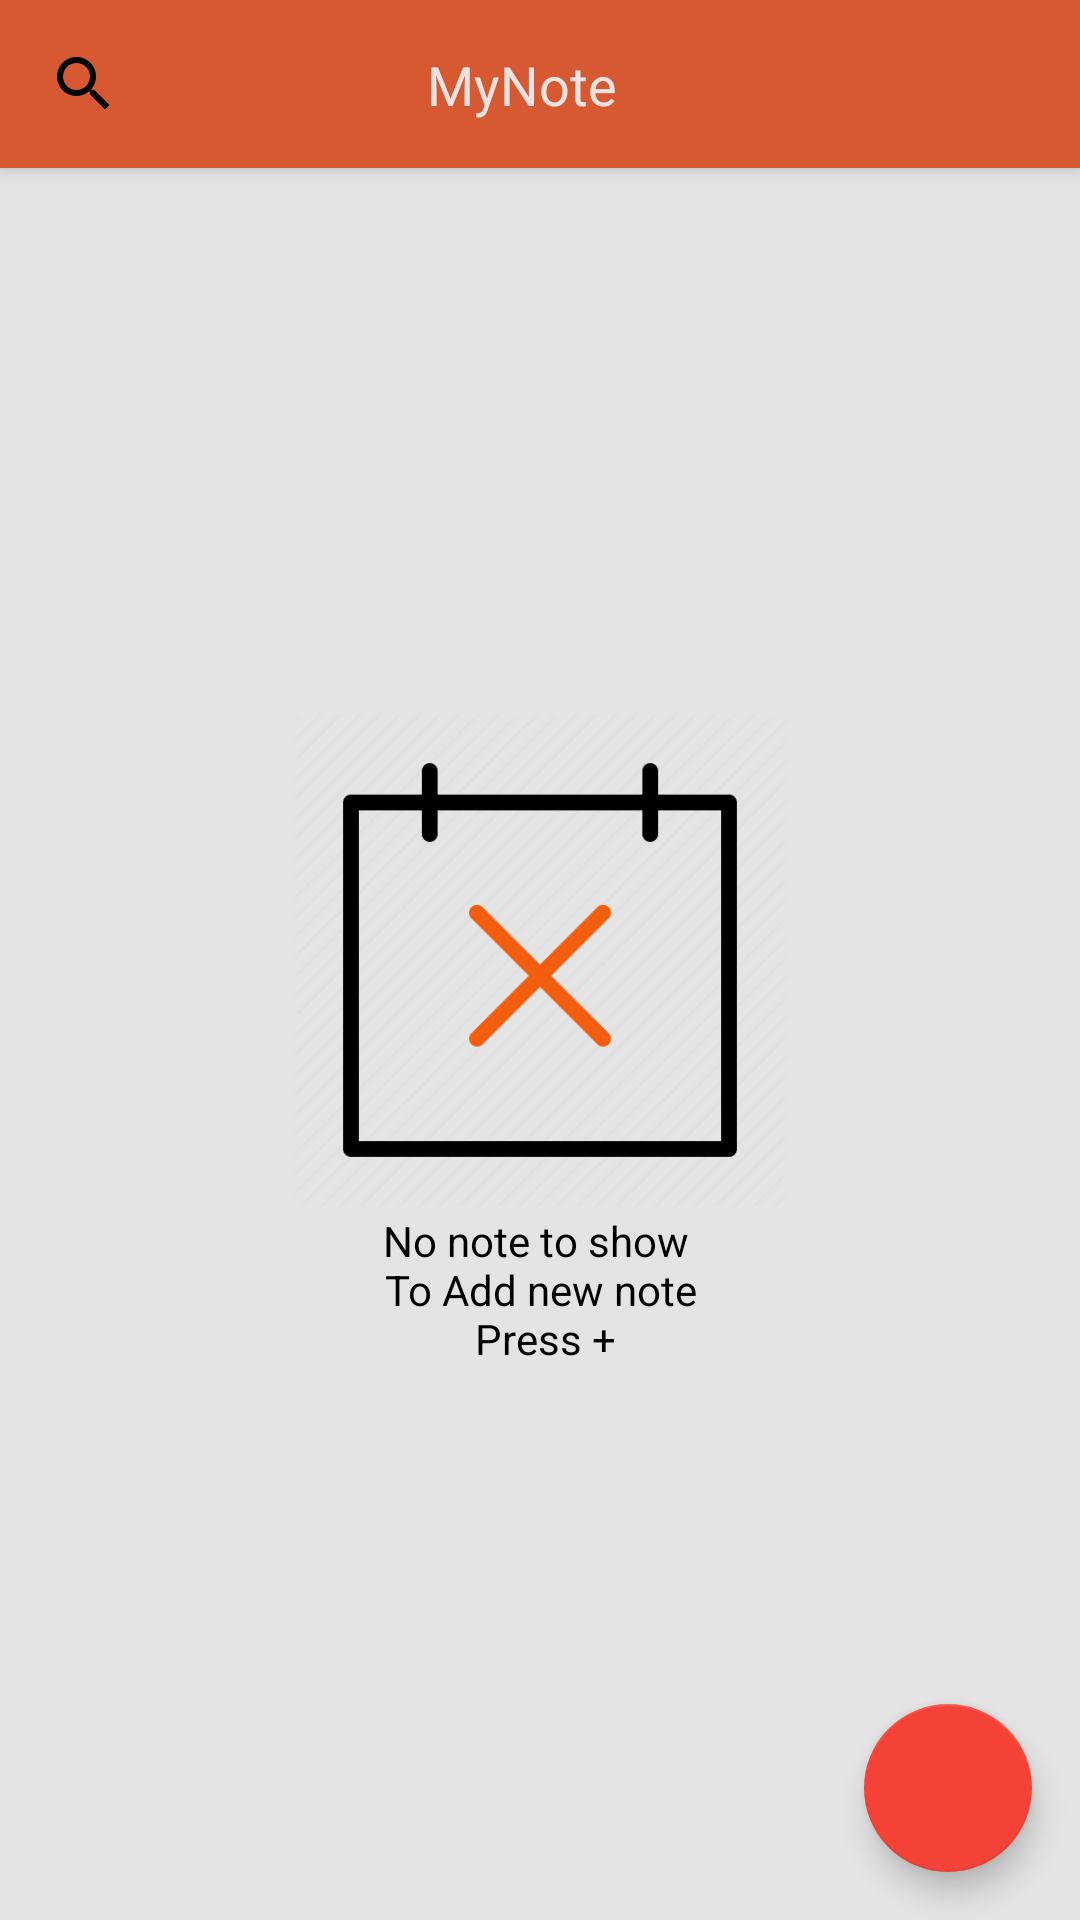

Icons on this 1080px×1920px Android screen, each with its box as (x1, y1, x2, y2):
search: (57, 57, 109, 109)
